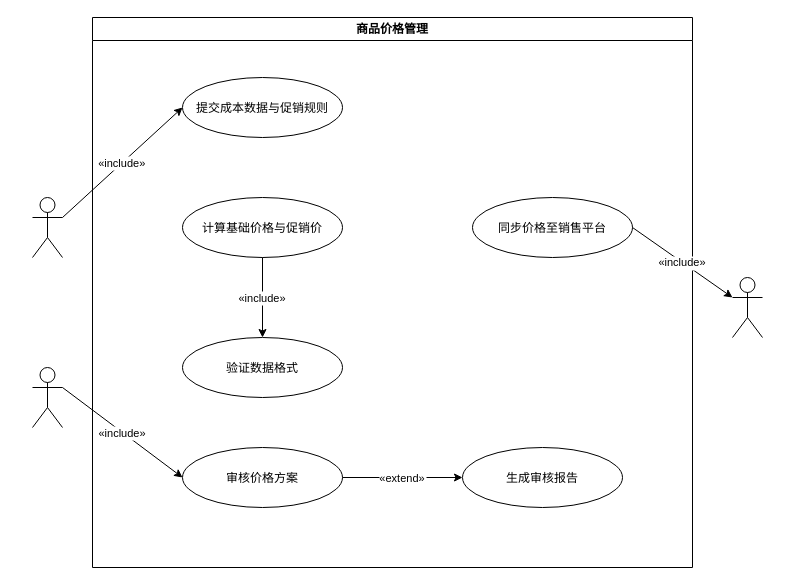
The diagram is 788 pixels wide and 585 high, and some of its shapes have lost their labels. The shapes that lost their labels are listed below. From the top down, each one's centre as x and y in pixels, then its label:
At (47,227): "市场部人员".
At (747,307): "销售平台".
At (47,397): "财务部人员".
